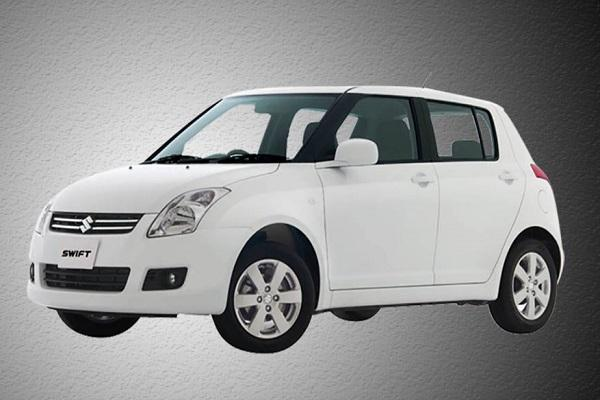Hatchback: (17, 57, 580, 363)
